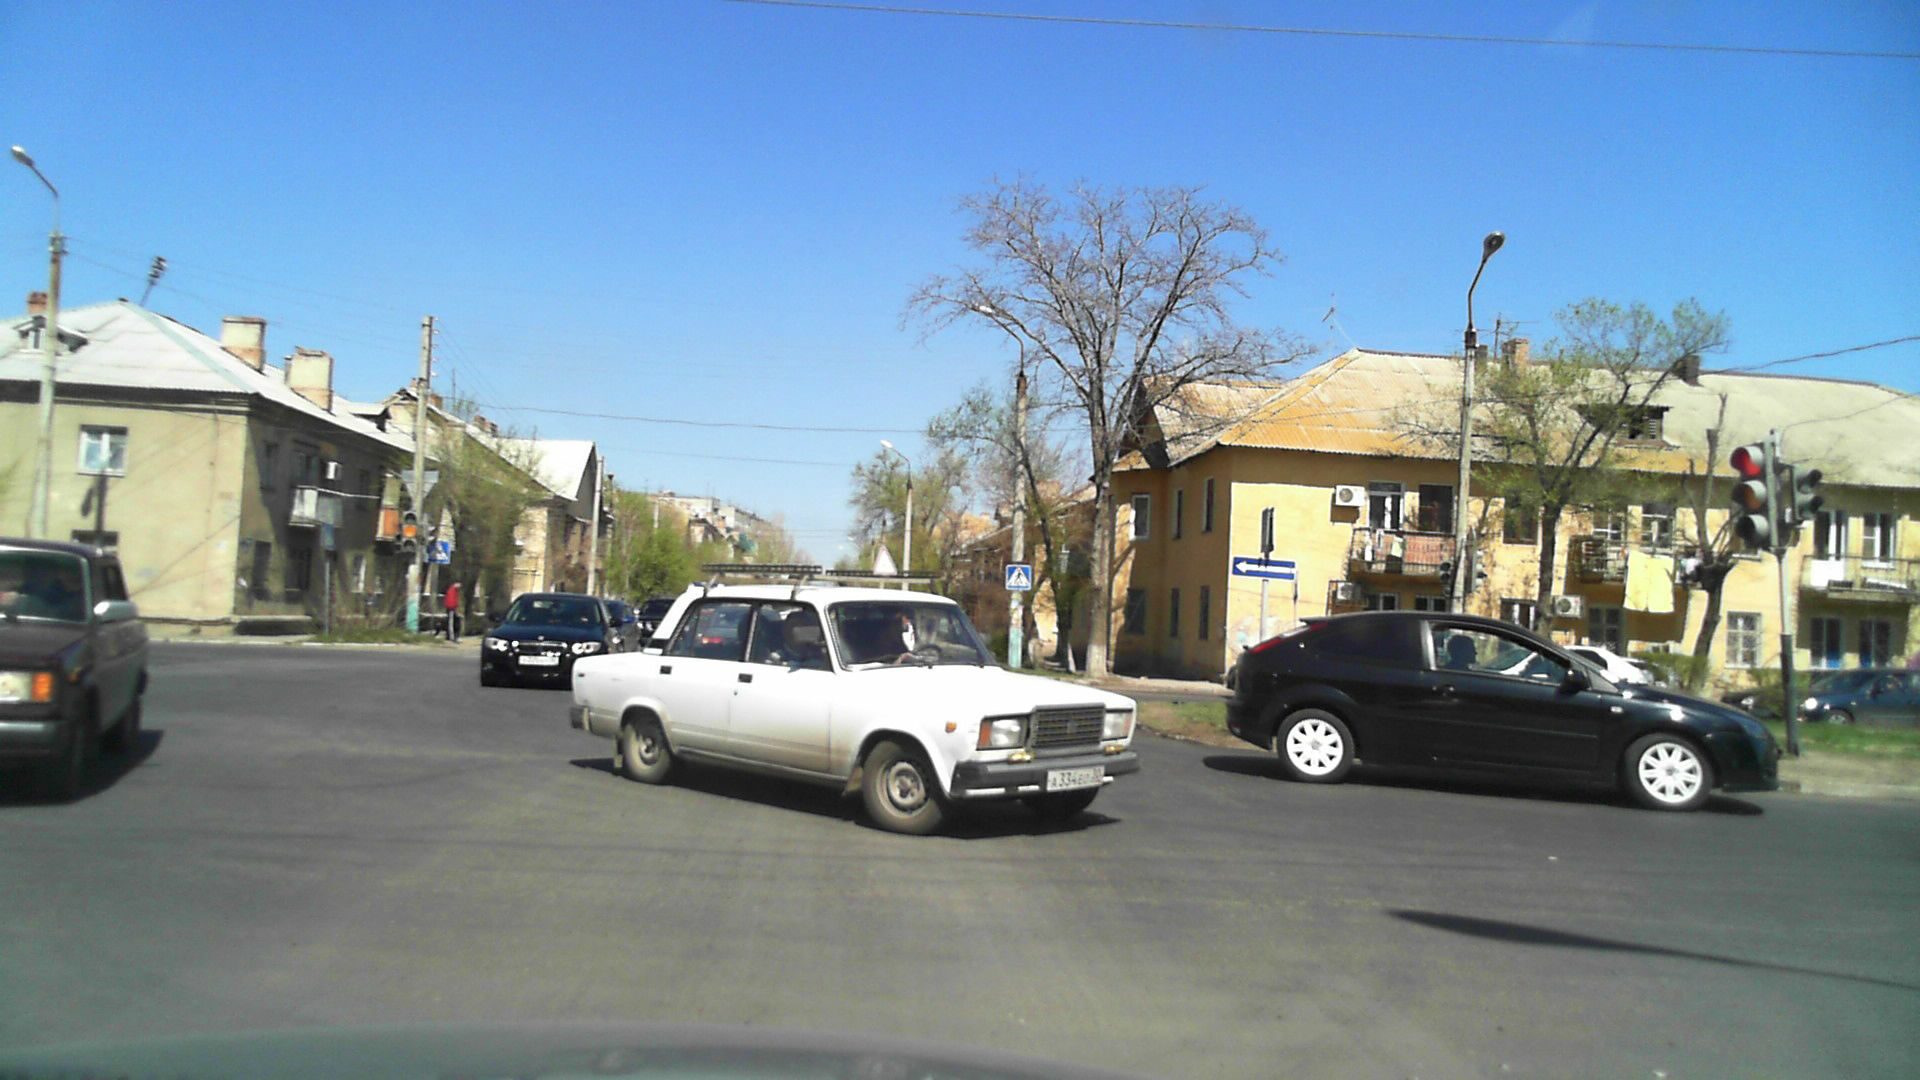One-Way Traffic: (1232, 558, 1298, 579)
